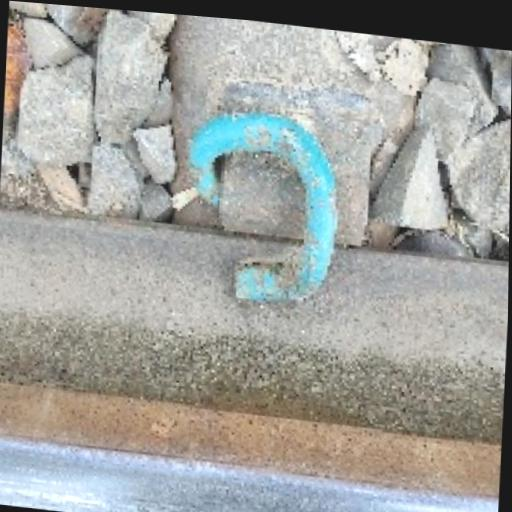erc_good: (177, 15, 403, 297)
